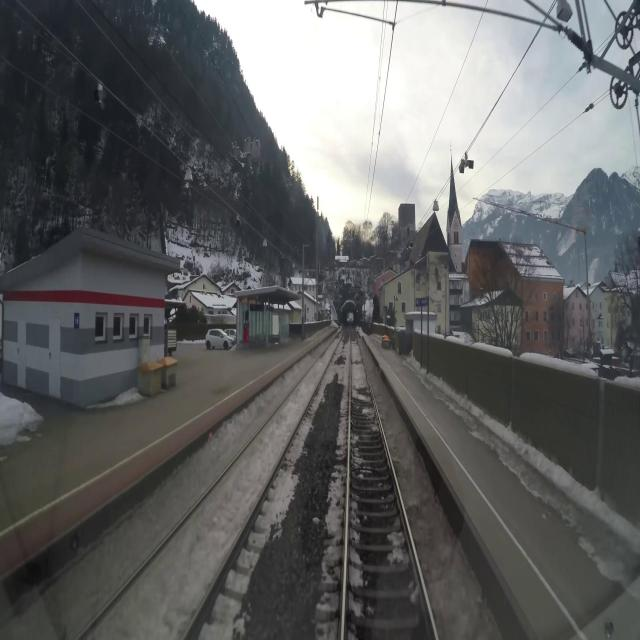rail-track: (80, 333, 341, 639), (345, 327, 434, 639)
